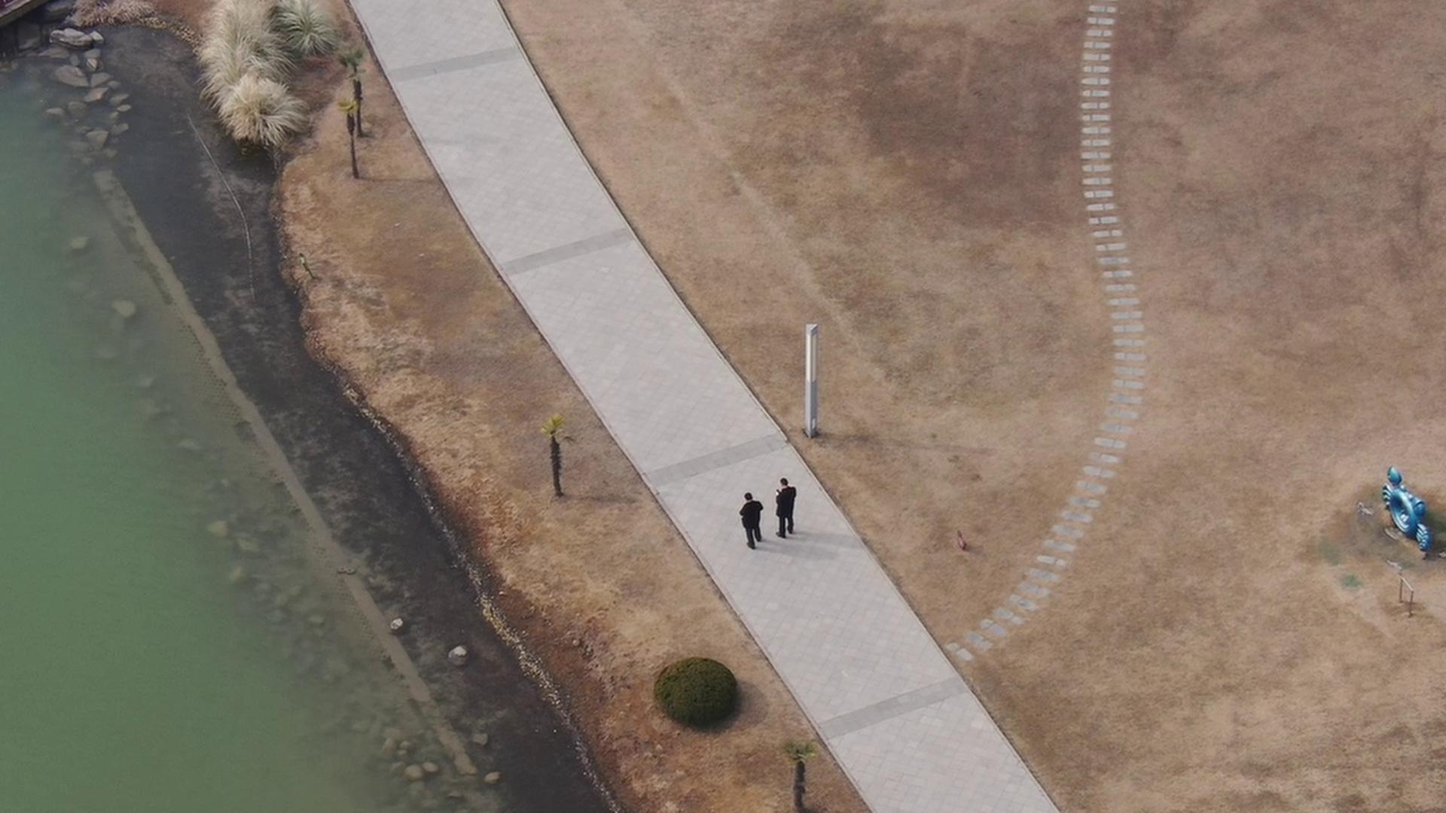human: (763, 467, 792, 535), (734, 477, 764, 542)
